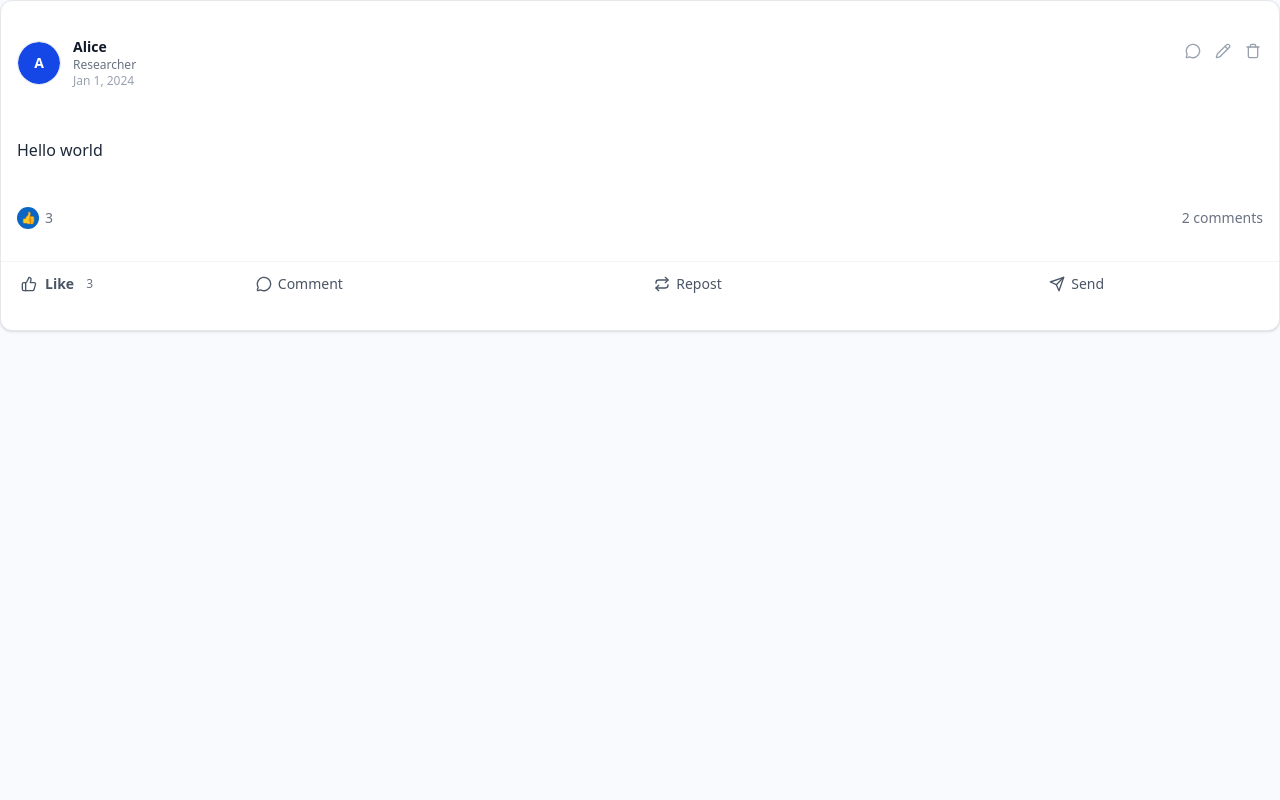
Test case: PostItem › editing › shows the link input when Link is clicked in edit mode
This screenshot has width=1280, height=800.
Click the button titled "Edit post" at (1223, 51), box top-left (1209, 37), bottom-right (1237, 65)
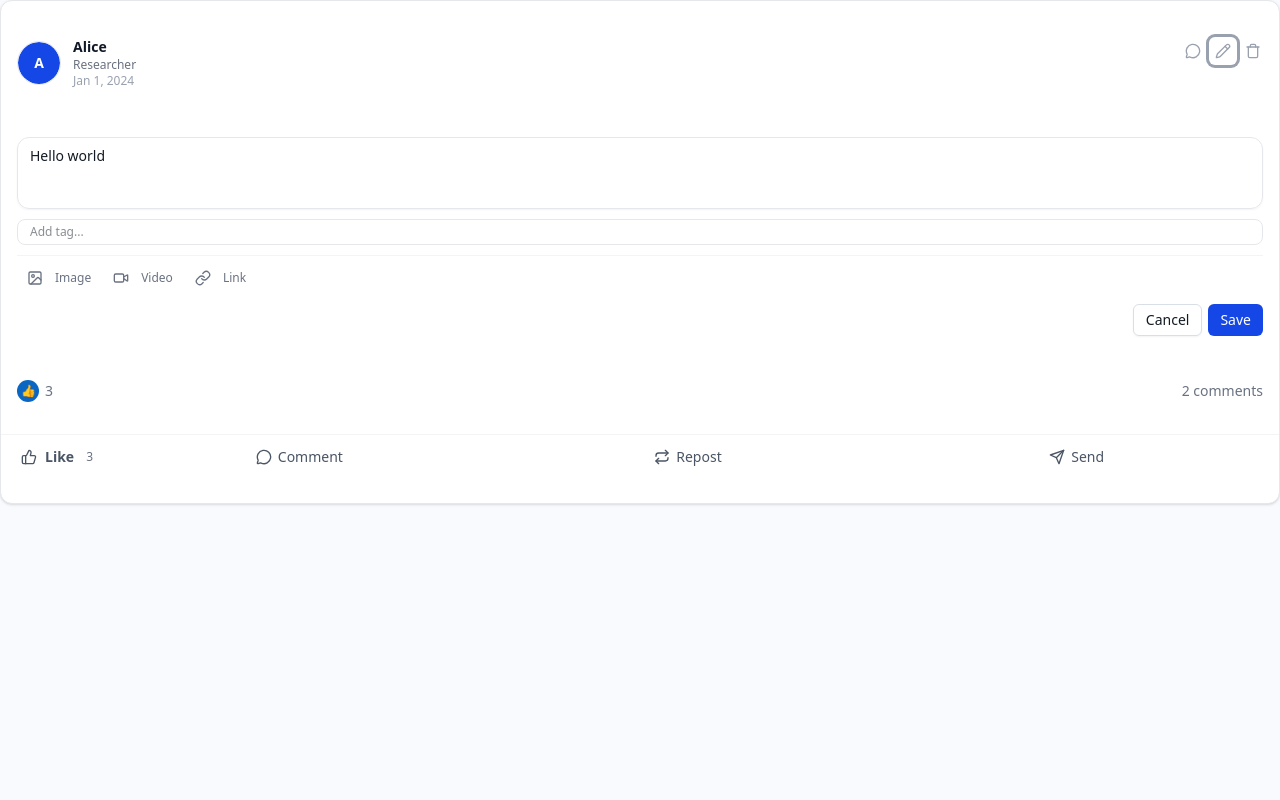
Click the button "Link" at (220, 278), box top-left (185, 262), bottom-right (256, 294)
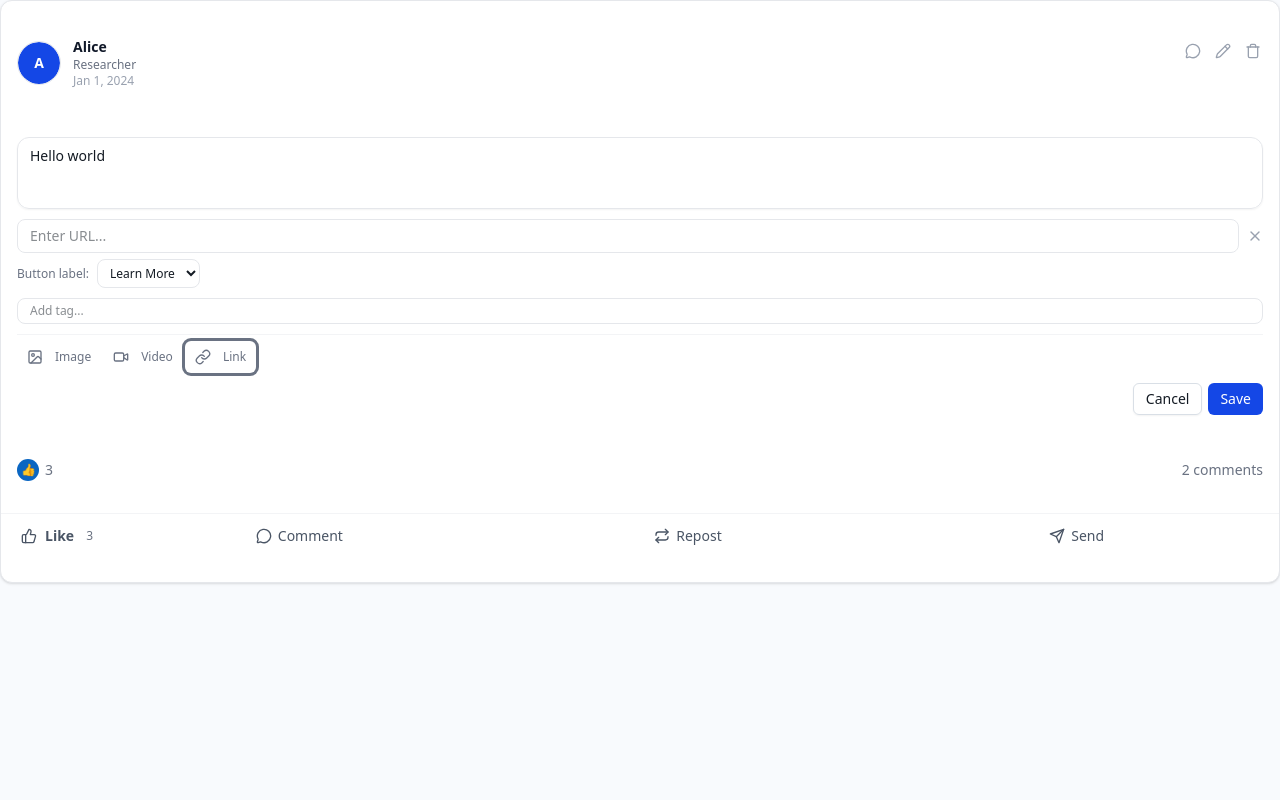
Expected: the field with placeholder "Enter URL..." is shown, top-left (17, 219), bottom-right (1239, 253)
